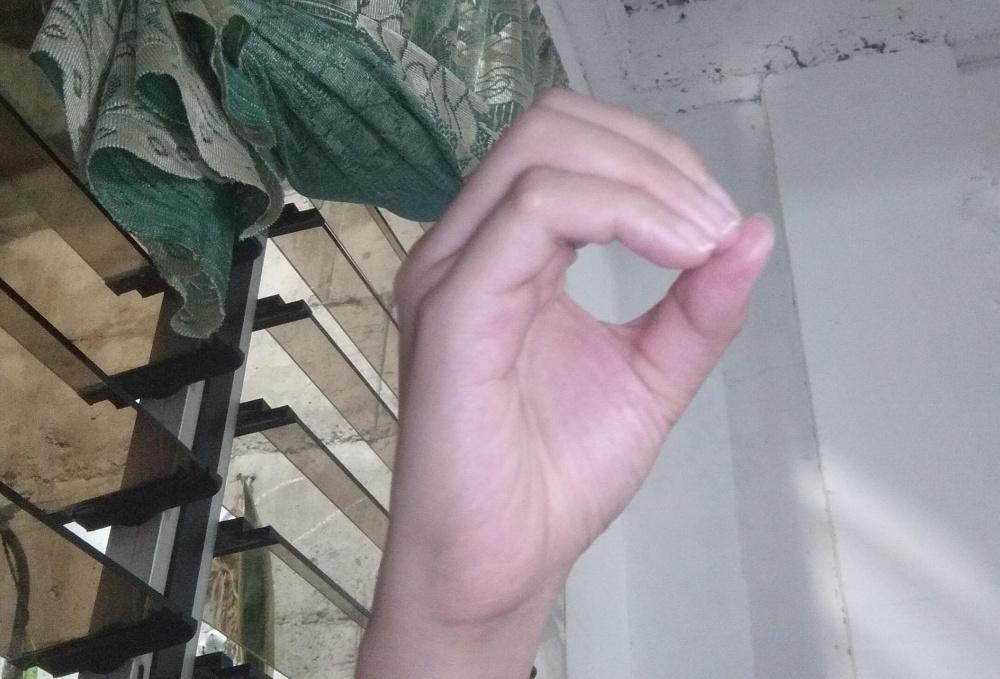o: (390, 84, 776, 612)
